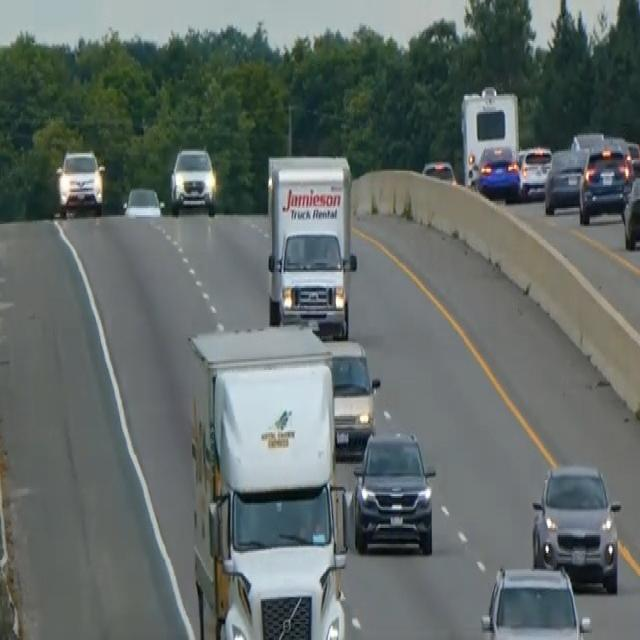bus: (459, 84, 520, 190)
car: (530, 460, 621, 592), (351, 426, 436, 556), (479, 562, 591, 638), (323, 336, 380, 455), (578, 139, 632, 224), (55, 146, 104, 217), (169, 144, 216, 215), (543, 146, 587, 213), (475, 142, 522, 201), (517, 142, 551, 198), (122, 183, 162, 219), (621, 172, 639, 250), (421, 156, 456, 185), (570, 128, 604, 155), (626, 138, 639, 178)
lorry: (185, 318, 350, 636)
truck: (265, 151, 357, 338)
